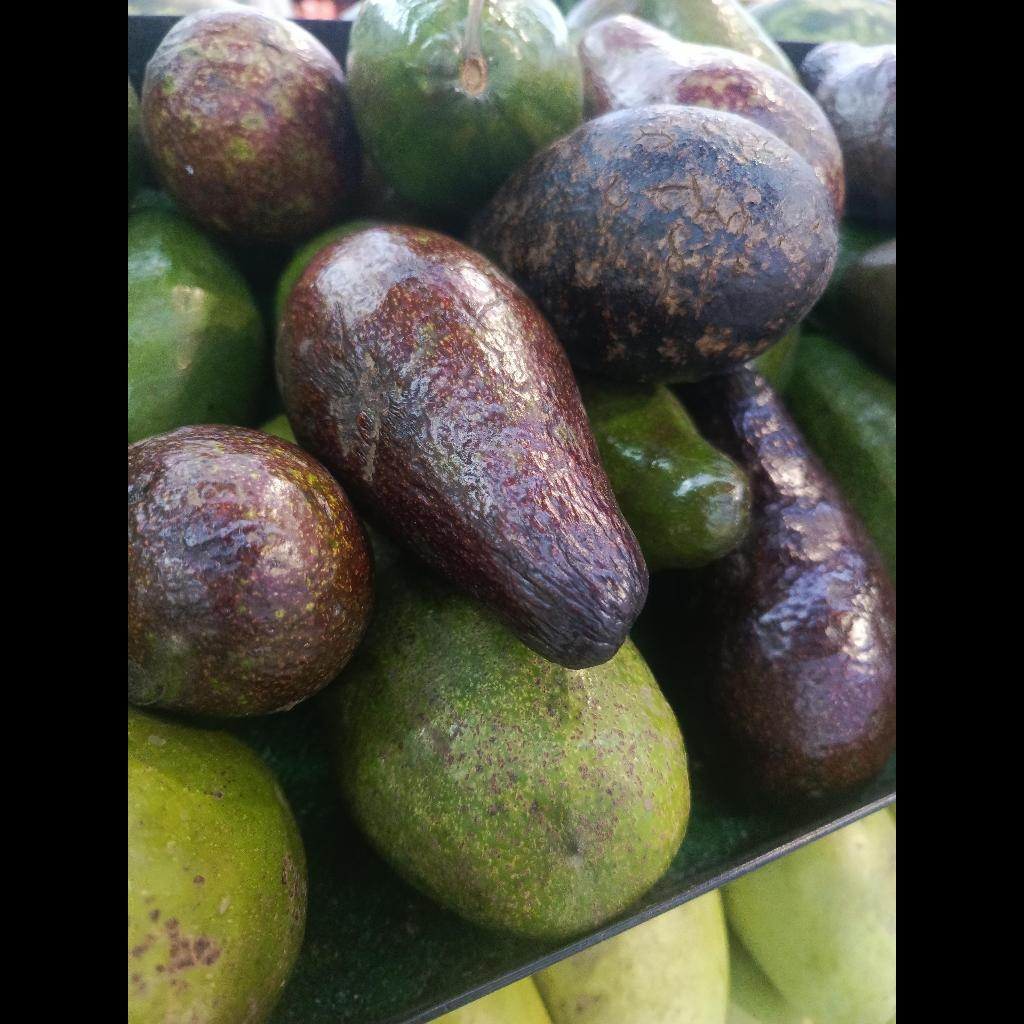healthy: (324, 560, 690, 941), (659, 369, 896, 803), (128, 425, 373, 716), (128, 205, 268, 444)
scab: (276, 225, 647, 668), (469, 105, 838, 383), (142, 4, 362, 244), (347, 0, 583, 218)
